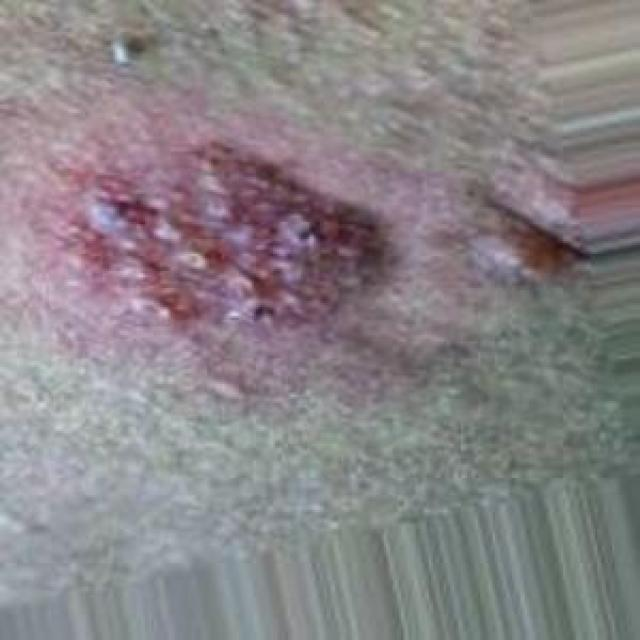Shingles: (48, 141, 386, 348)
